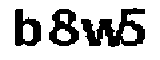5: (123, 7, 150, 50)
8: (47, 7, 82, 49)
b: (8, 5, 43, 48)
w: (81, 15, 122, 49)
